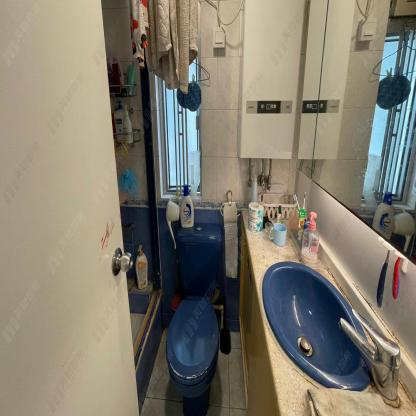Toilet Sink: (260, 260, 370, 392)
Water Heater: (237, 0, 306, 157)
